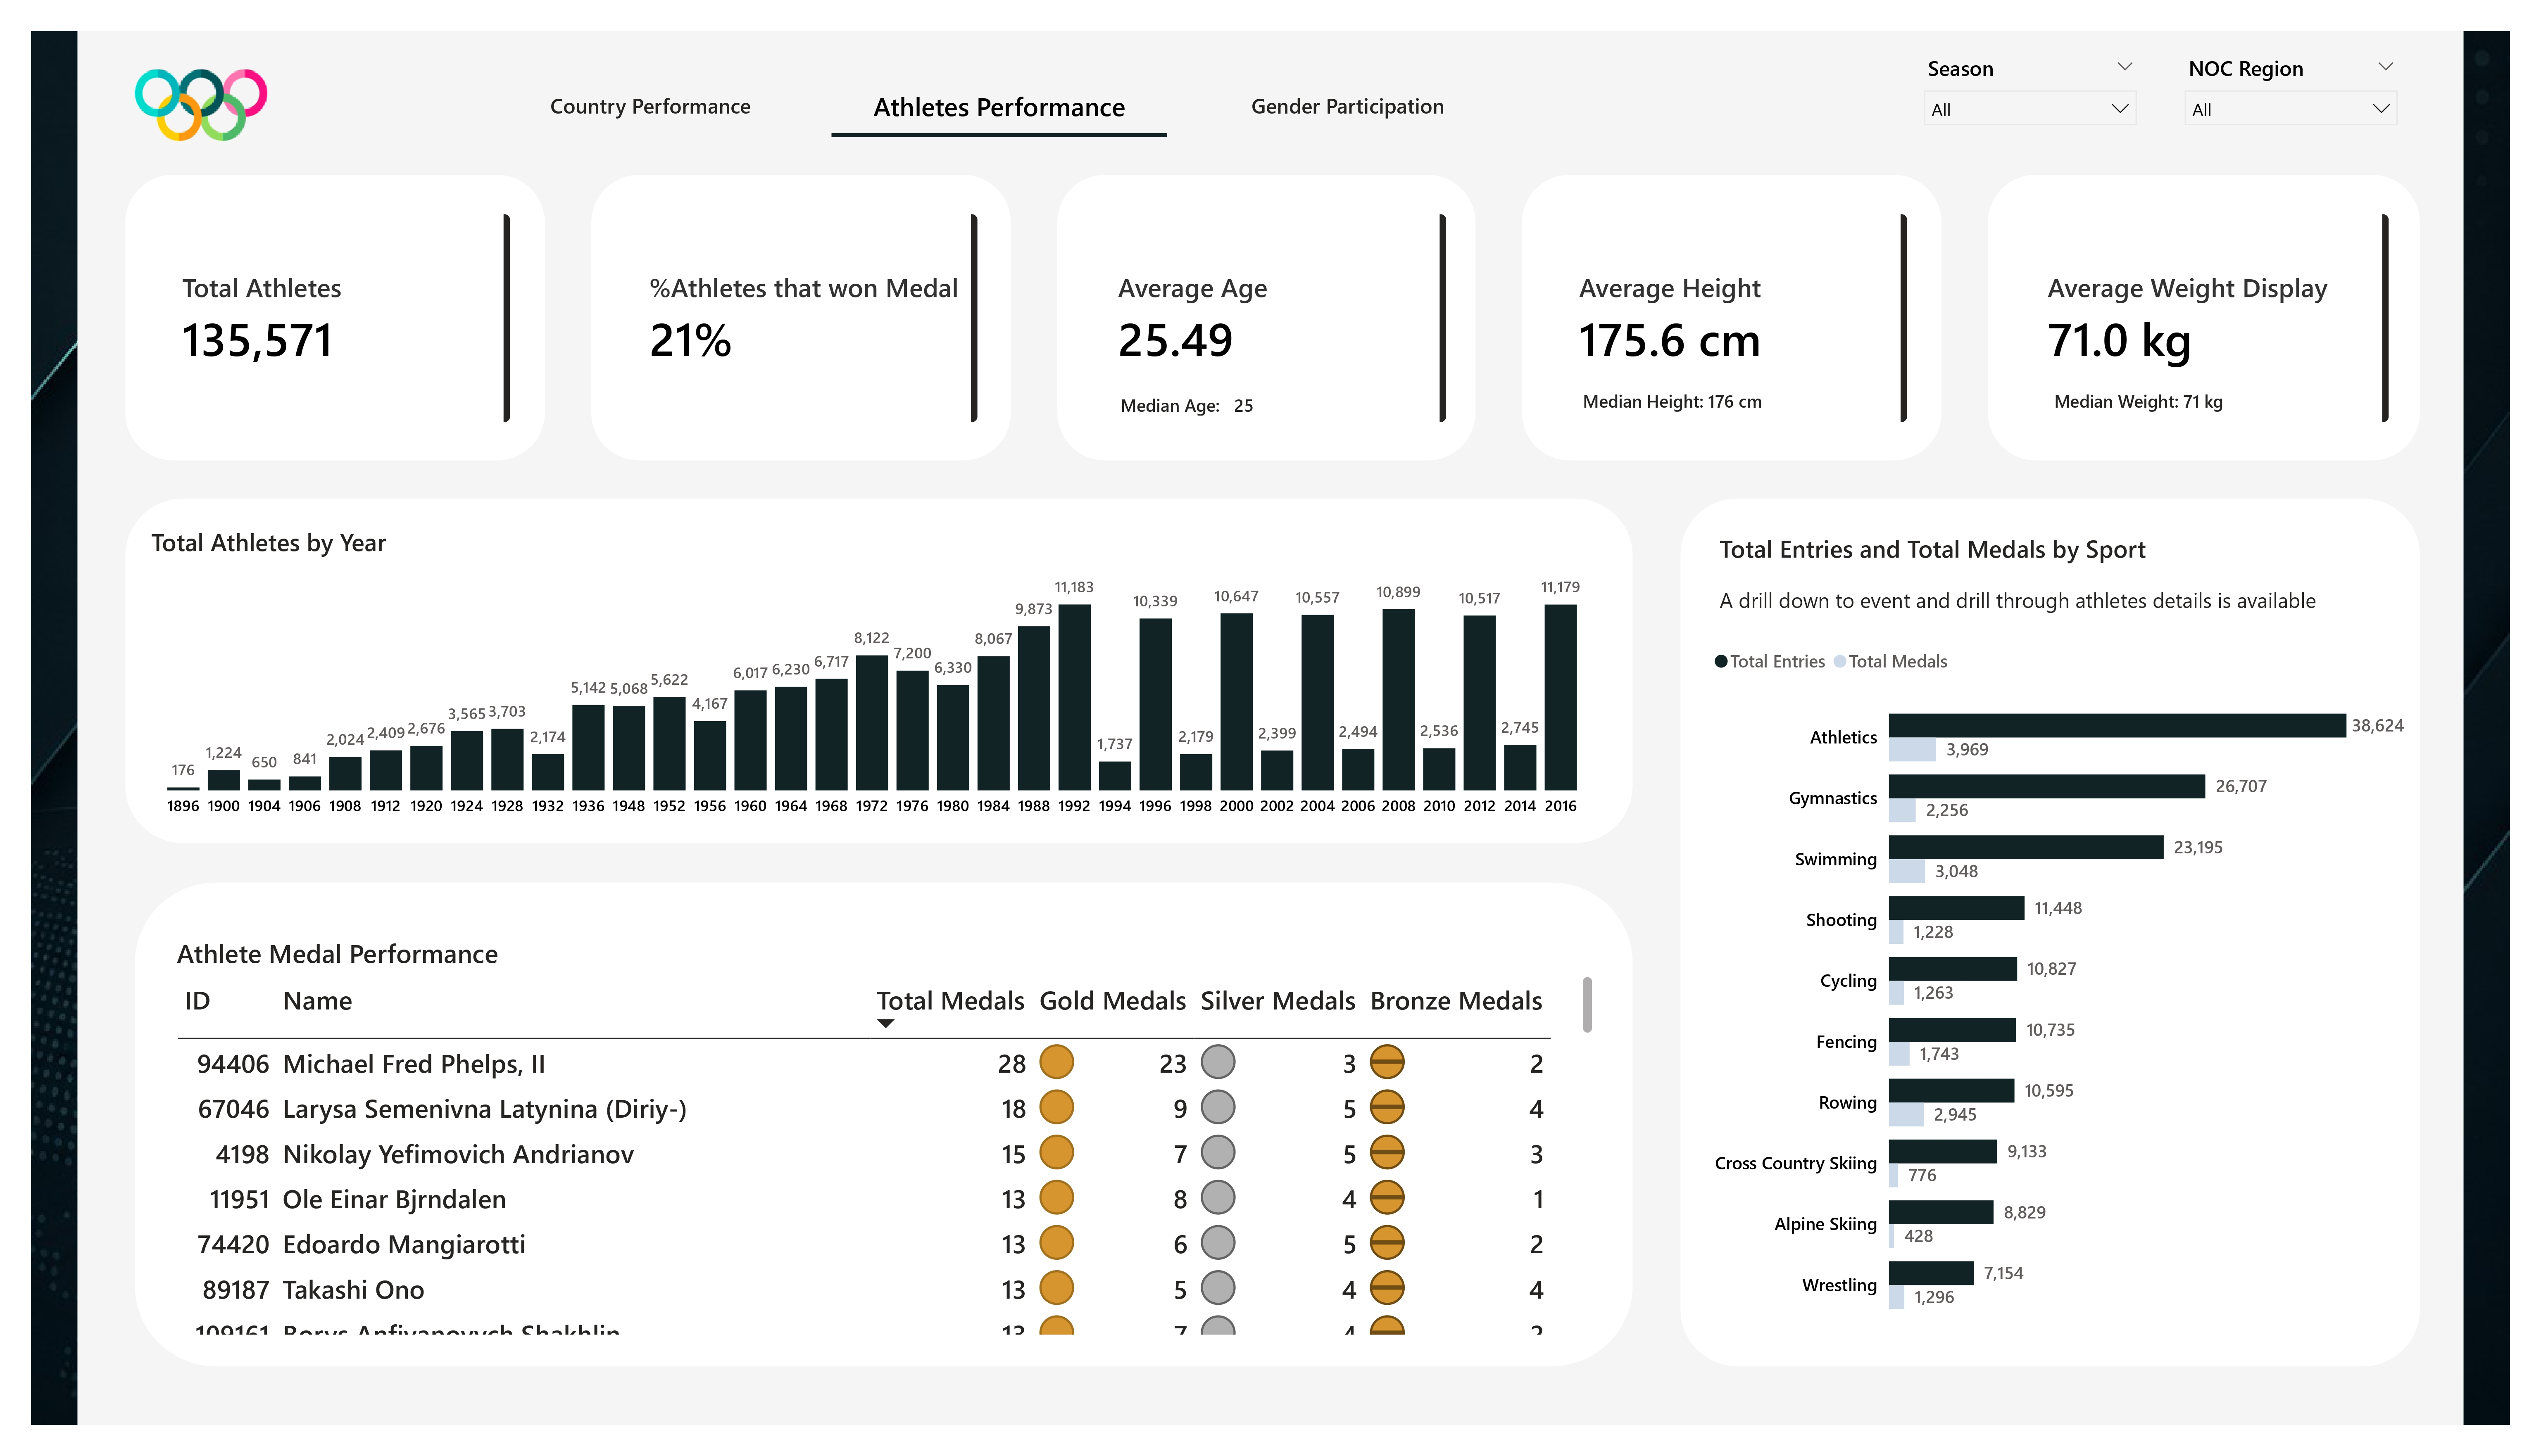

Layout of this report page (visuals, bound fields, positions):
{"tool":"powerbi","page":{"name":"Athletes Performance","canvas":[1920,1080],"ordinal":1},"visuals":[{"type":"cardVisual","fields":{"Data":["DaxMeasures.Average Age"]},"box":[812.5,125,300,195],"z":0},{"type":"cardVisual","fields":{"Data":["DisplayMeasures.Avereage  Height Display"]},"box":[1170,125,300,195],"z":1000},{"type":"cardVisual","fields":{"Data":["DisplayMeasures.Median  Height Display"]},"box":[1270,250,100,70],"z":2000},{"type":"cardVisual","fields":{"Data":["DisplayMeasures.Median Height Display"]},"box":[1172.5,250,175,70],"z":3000},{"type":"cardVisual","fields":{"Data":["DisplayMeasures.Average  Weight Display"]},"box":[1532.5,125,310,195],"z":4000},{"type":"cardVisual","fields":{"Data":["DisplayMeasures.Median Weight Display"]},"box":[1637.5,250,100,70],"z":5000},{"type":"cardVisual","fields":{"Data":["DisplayMeasures.Median Weight Display"]},"box":[1537.5,250,175,70],"z":6000},{"type":"clusteredColumnChart","fields":{"Category":["FactAthleteRecord.Year"],"Y":["DaxMeasures.Total Athletes"]},"box":[87.5,382.5,1127.5,235],"z":7000},{"type":"clusteredBarChart","fields":{"Category":["DimSport.Sport","DimEvent.Event"],"Y":["DaxMeasures.Total Entries","DaxMeasures.Total Medals Received"]},"box":[1297.5,467.5,545,547.5],"z":8000},{"type":"cardVisual","fields":{"Data":["DaxMeasures.%Althletes that won Medal"]},"box":[450,125,300,195],"z":9000},{"type":"cardVisual","fields":{"Data":["DaxMeasures.Median Age"]},"box":[902.5,252.5,100,70],"z":10000},{"type":"cardVisual","fields":{"Data":["DisplayMeasures.Median Age Display"]},"box":[815,252.5,137.5,70],"z":11000},{"type":"tableEx","title":"Athlete Medal Performance","fields":{"Values":["DimAthlete.Athlete_ID","DimAthlete.Name","DaxMeasures.Total Medals Received","DaxMeasures.Total Gold Medals Received","DaxMeasures.Total Silver Medals Received","DaxMeasures.Total Bronze Medals Received"]},"box":[107.5,700,1107.5,315],"z":12000},{"type":"pageNavigator","box":[350,32,800,50],"z":13000},{"type":"slicer","fields":{"Values":["DimSeason.Season"]},"box":[1456.2,12.5,185,90],"z":14000},{"type":"slicer","fields":{"Values":["DimNocRegion.region"]},"box":[1657.5,12.5,185,90],"z":15000},{"type":"cardVisual","fields":{"Data":["DaxMeasures.Total Athletes"]},"box":[88.3,125,300,195],"z":16000},{"type":"textbox","box":[1302.5,382.5,540,117.5],"z":17000}]}

Visuals, with their boxes on the page's 1920x1080 design canvas (x1, y1, x2, y2). These are canvas units, not pixel positions in the 2541x1456 screenshot, which may show the page scaled, cropped or inside an application window:
cardVisual - DaxMeasures.Average Age: (812,125,1112,320)
cardVisual - DisplayMeasures.Avereage  Height Display: (1170,125,1470,320)
cardVisual - DisplayMeasures.Median  Height Display: (1270,250,1370,320)
cardVisual - DisplayMeasures.Median Height Display: (1172,250,1348,320)
cardVisual - DisplayMeasures.Average  Weight Display: (1532,125,1842,320)
cardVisual - DisplayMeasures.Median Weight Display: (1638,250,1738,320)
cardVisual - DisplayMeasures.Median Weight Display: (1538,250,1712,320)
clusteredColumnChart - FactAthleteRecord.Year x DaxMeasures.Total Athletes: (88,382,1215,618)
clusteredBarChart - DimSport.Sport x DimEvent.Event: (1298,468,1842,1015)
cardVisual - DaxMeasures.%Althletes that won Medal: (450,125,750,320)
cardVisual - DaxMeasures.Median Age: (902,252,1002,322)
cardVisual - DisplayMeasures.Median Age Display: (815,252,952,322)
"Athlete Medal Performance" tableEx: (108,700,1215,1015)
pageNavigator: (350,32,1150,82)
slicer - DimSeason.Season: (1456,12,1641,102)
slicer - DimNocRegion.region: (1658,12,1842,102)
cardVisual - DaxMeasures.Total Athletes: (88,125,388,320)
textbox: (1302,382,1842,500)
